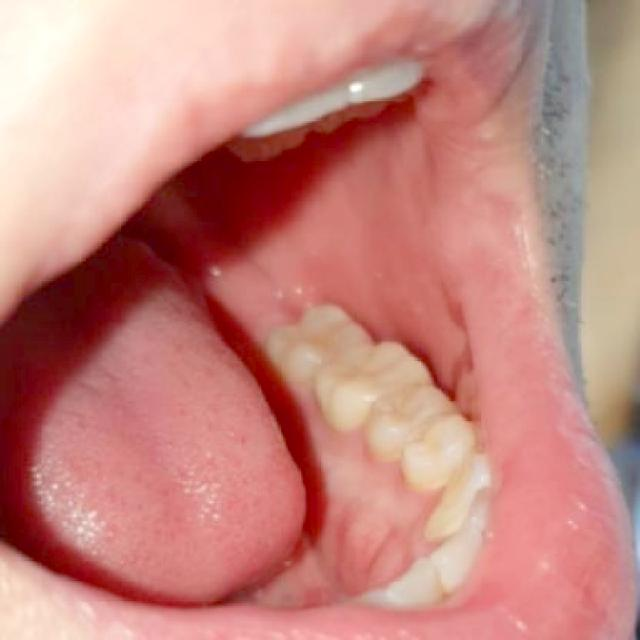Plaque: (372, 386, 418, 431)
